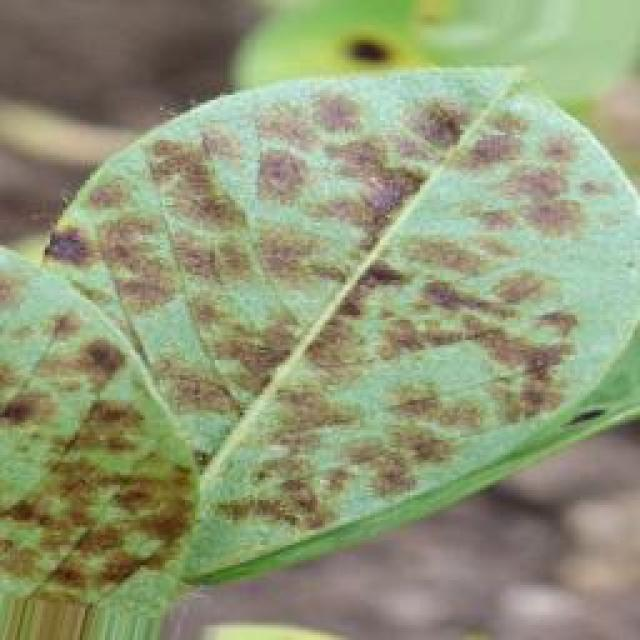Whitefly: (0, 46, 602, 634)
